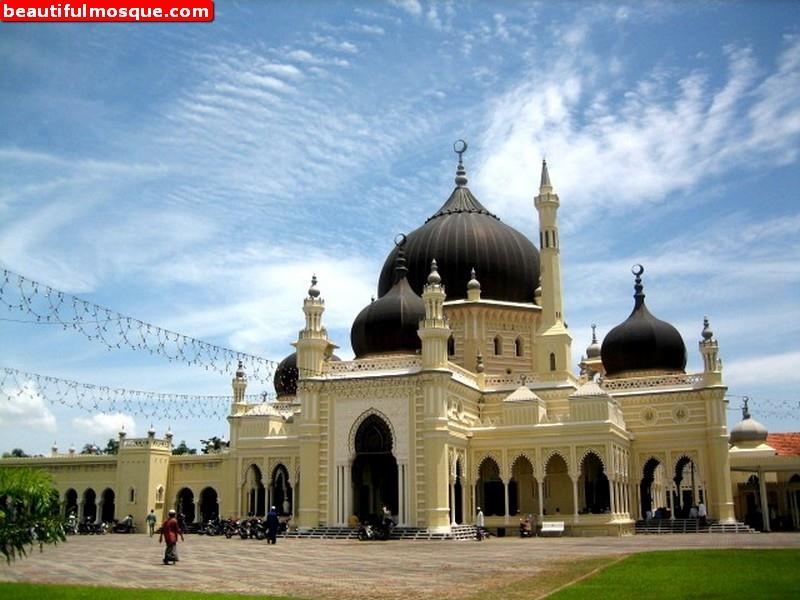Mosque: (205, 145, 725, 527)
